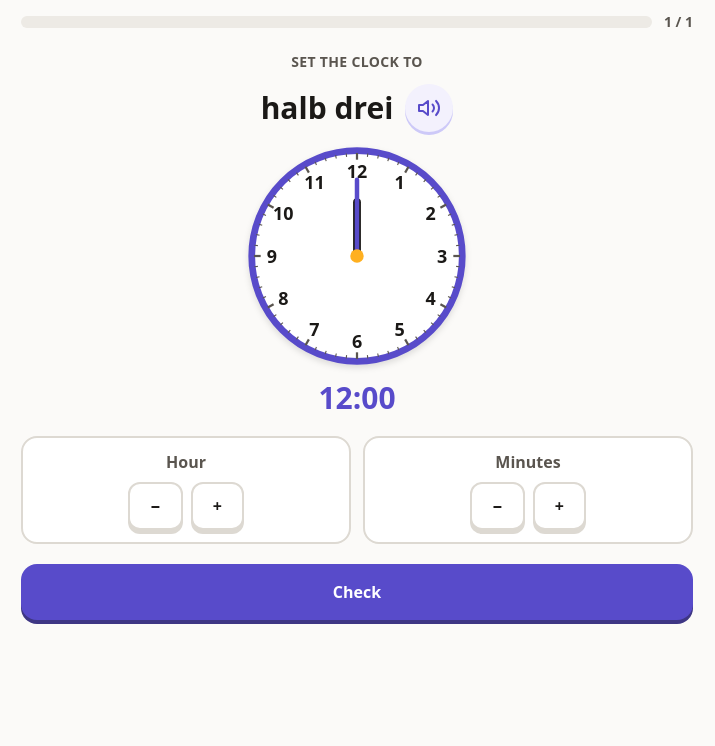
ClockMaster – set mode › marks a wrong time and locks the steppers
Click the button "Check" at [357, 592], box [21,564,693,620]
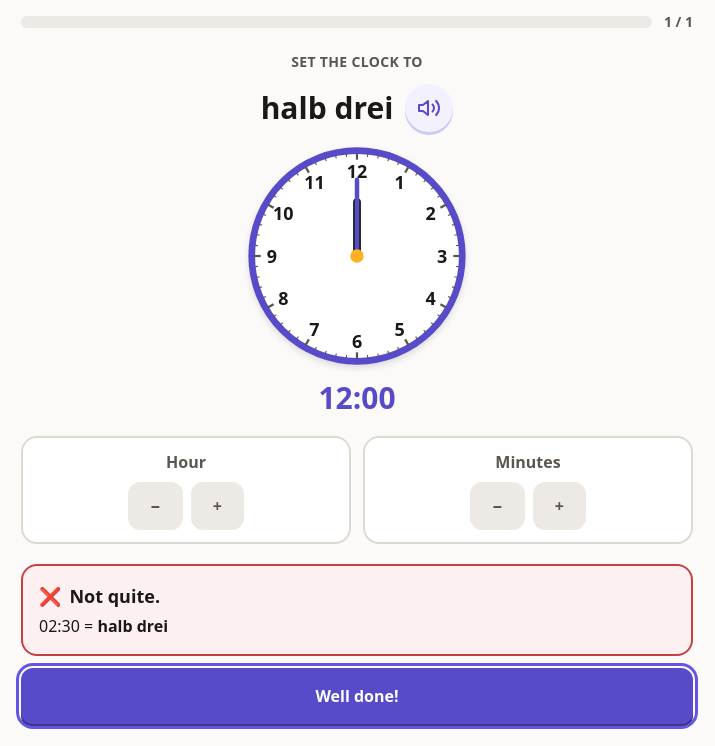
Expected: the button named "Hour plus" is disabled, [191,482,244,530]
